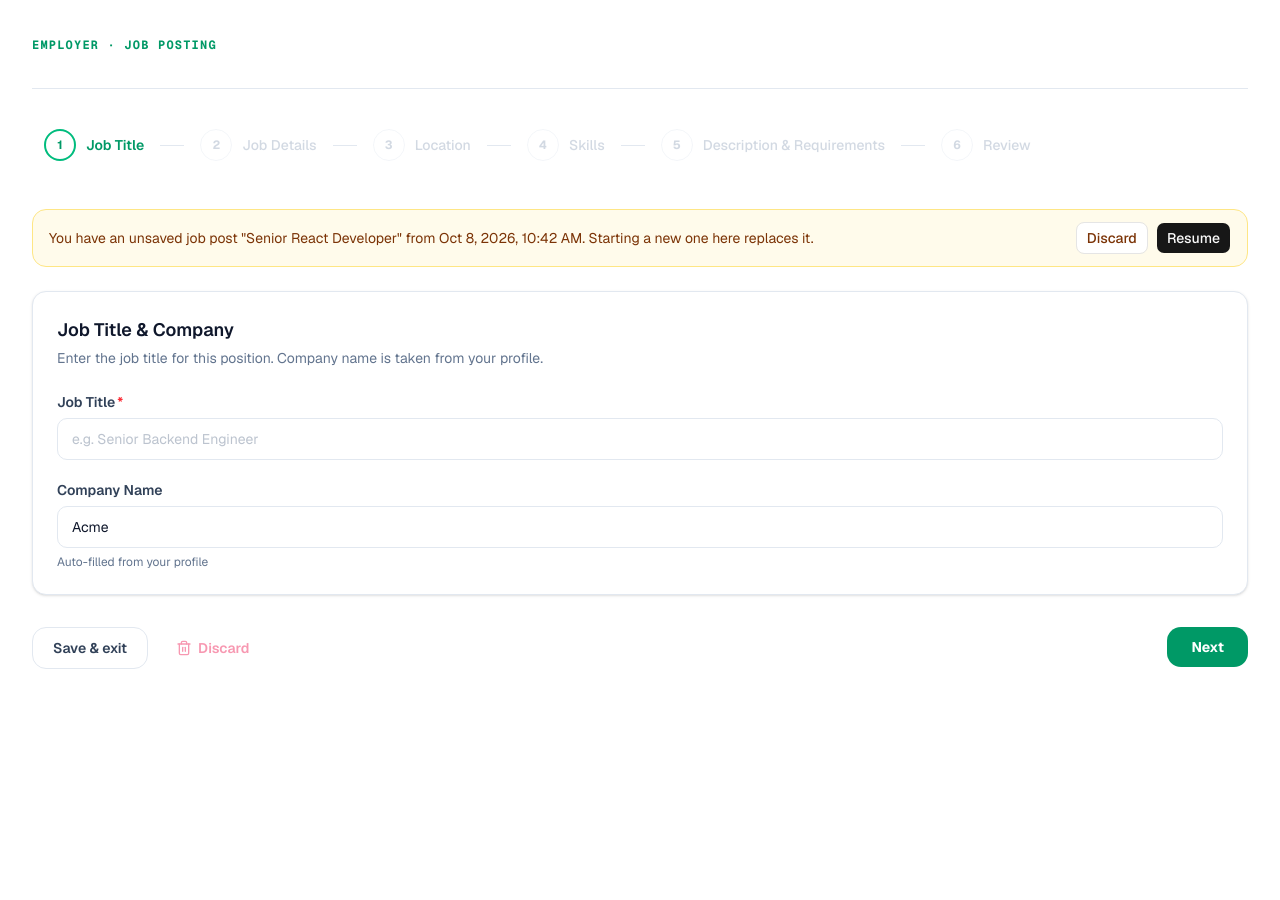
Test: CreateJobView local backup › offers the backup in a banner when the wizard is opened directly, and Resume restores it
Expected: the message "unsaved job post" shows "Senior React Developer", [238, 229, 402, 247]
Click the button "Resume": (1193, 238) [1156, 222, 1231, 254]
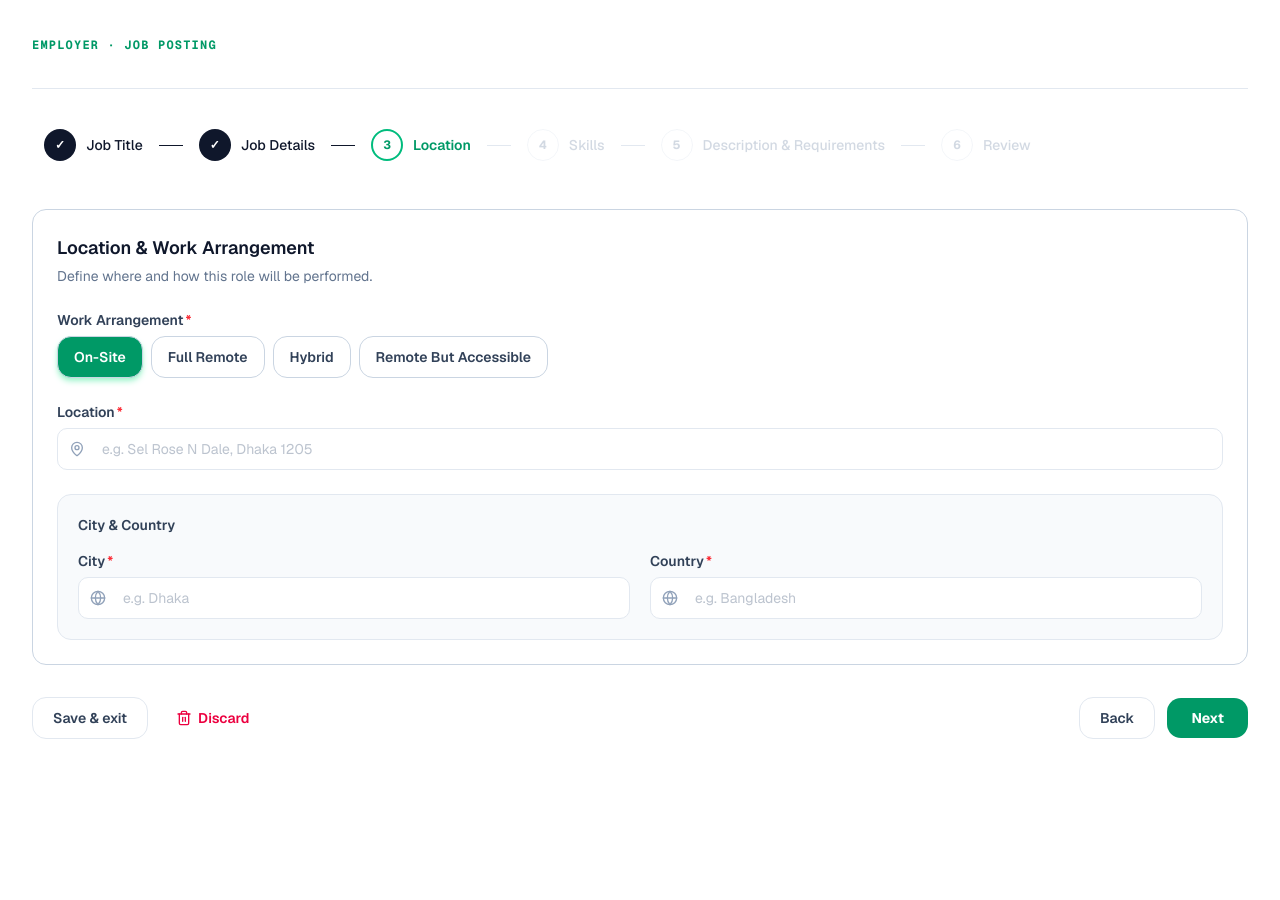
Expected: the text "unsaved job post" is gone
